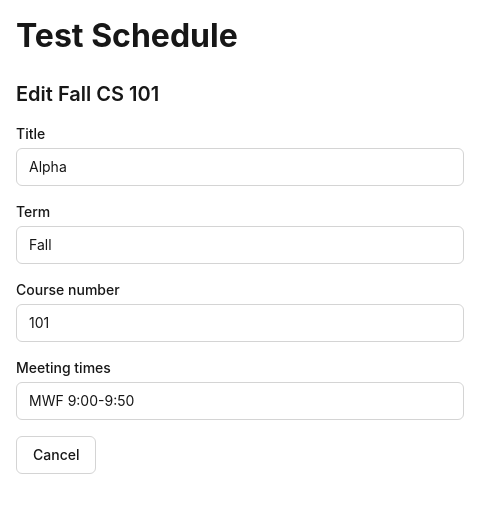
Edit course validation › shows and clears meeting time errors as the user edits
The image size is (481, 515).
Expected: the heading "Test Schedule" is shown, [16, 16, 238, 55]
Replace the text in the field labelled "Meeting times" with "MWF 13:00-12:00": (240, 400) [16, 382, 464, 420]
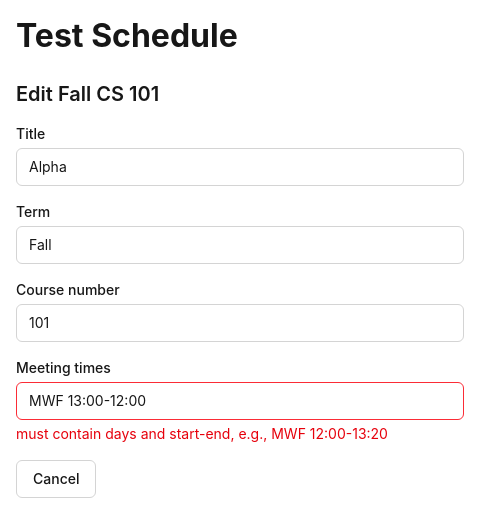
Now the text "must contain days and start-end, e.g., MWF 12:00-13:20" is shown, box [16, 424, 388, 442]
Replace the text in the field labelled "Meeting times" with "TuTh 14:00-15:20": (240, 400) [16, 382, 464, 420]
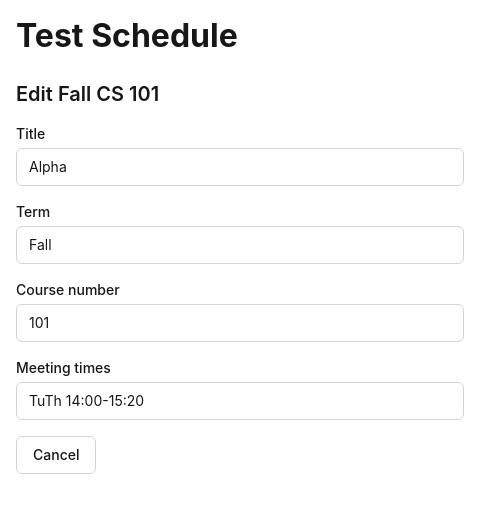
Now the text "must contain days and start-end" is gone
Replace the text in the field labelled "Meeting times" with "MM 9:00-9:50": (240, 400) [16, 382, 464, 420]
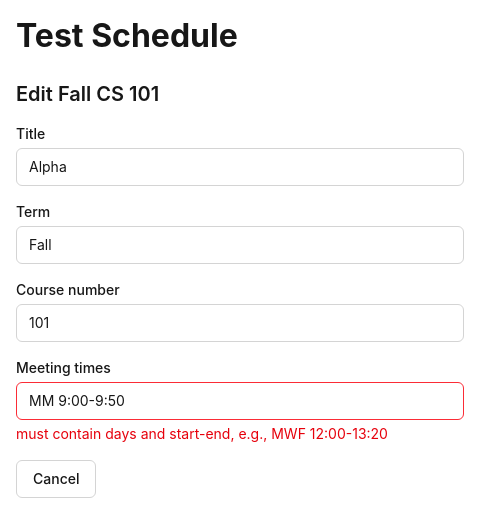
Now the text "must contain days and start-end, e.g., MWF 12:00-13:20" is shown, box [16, 424, 388, 442]
Clear the field labelled "Meeting times": (240, 400) [16, 382, 464, 420]
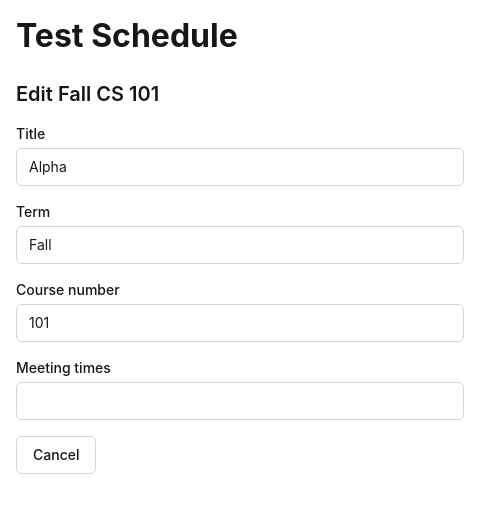
Now the text "must contain days and start-end" is gone
